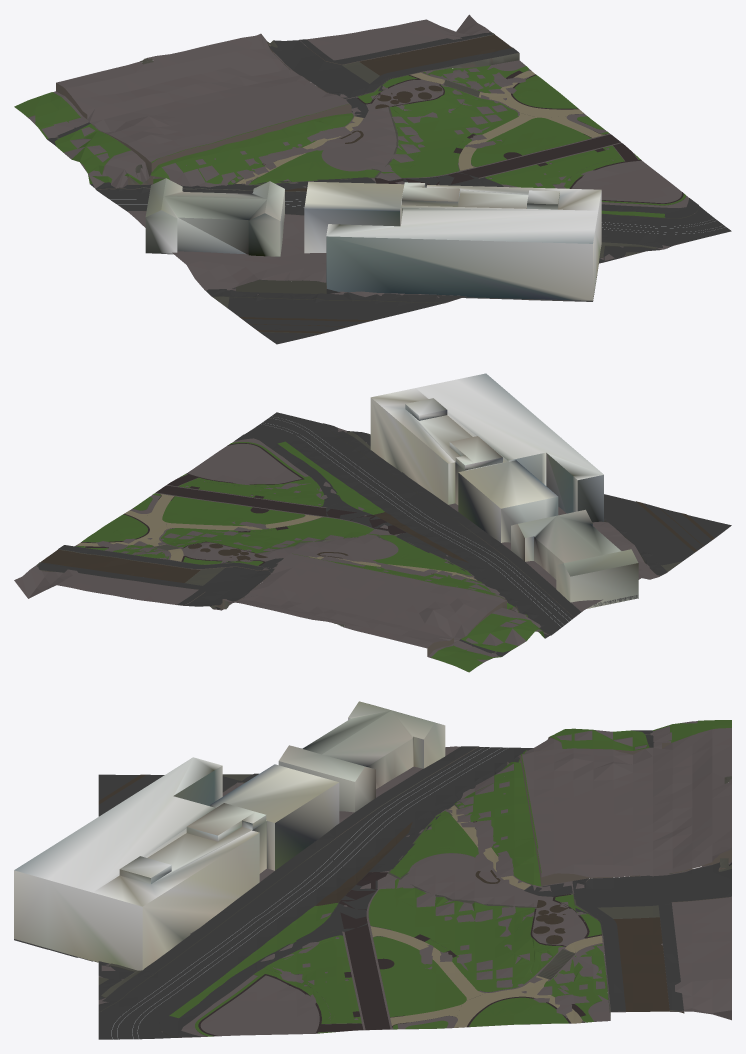
The picture shows the model from 3 angles, top to bottom: view 1: azimuth 30°, elevation 25°; view 2: azimuth 150°, elevation 25°; view 3: azimuth 270°, elevation 25°; orthographic projection. The views are drawn at different scales.
Parts seen in each view (by area): view 1: c_p03_p01; view 2: c_p03_p01; view 3: c_p03_p01.
Part boxes in pixels (box(x1,y1,x2,y2)): c_p03_p01: box(14, 14, 731, 344); c_p03_p01: box(14, 373, 731, 672); c_p03_p01: box(14, 701, 731, 1039).
Bounding box in the file's own units: 133 × 17.13 × 145.
